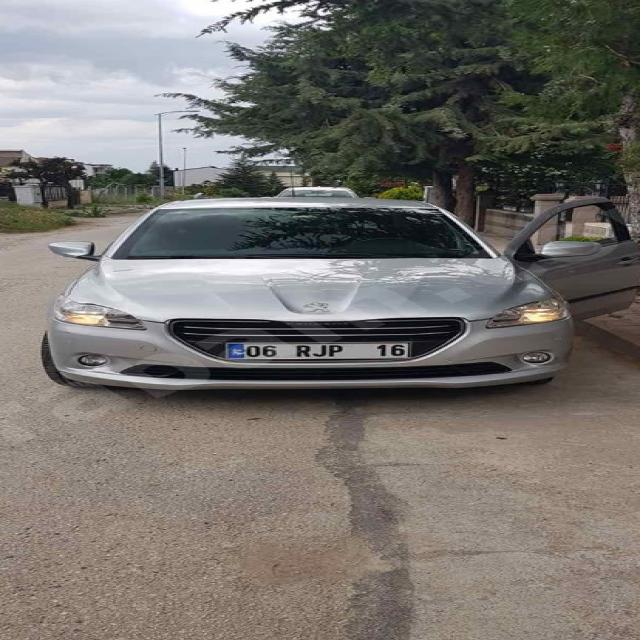license_plate: (226, 342, 410, 359)
